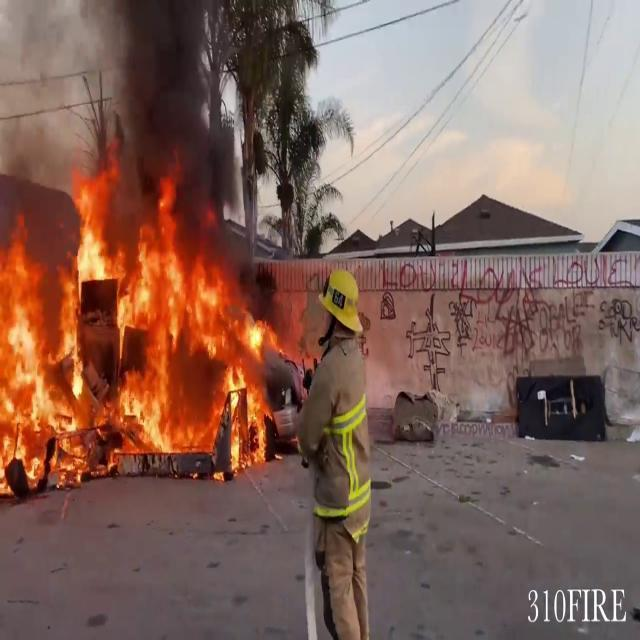Fire: (0, 168, 282, 488)
Smoke: (1, 1, 244, 240)
